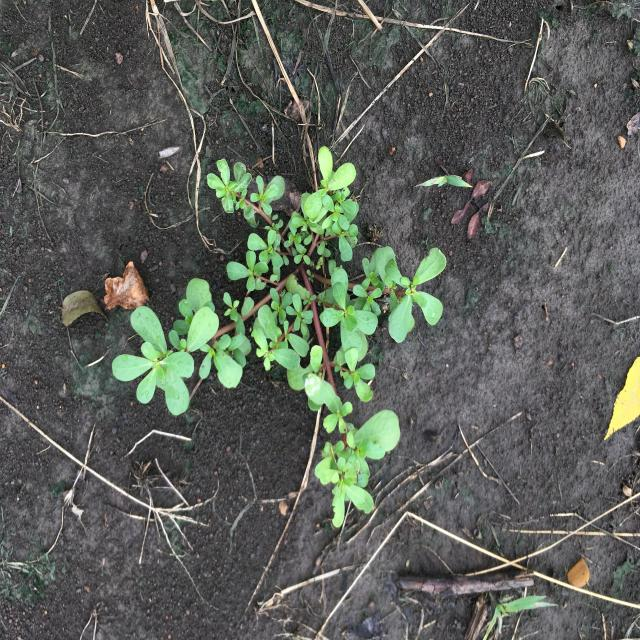Purslane: (112, 146, 447, 527)
